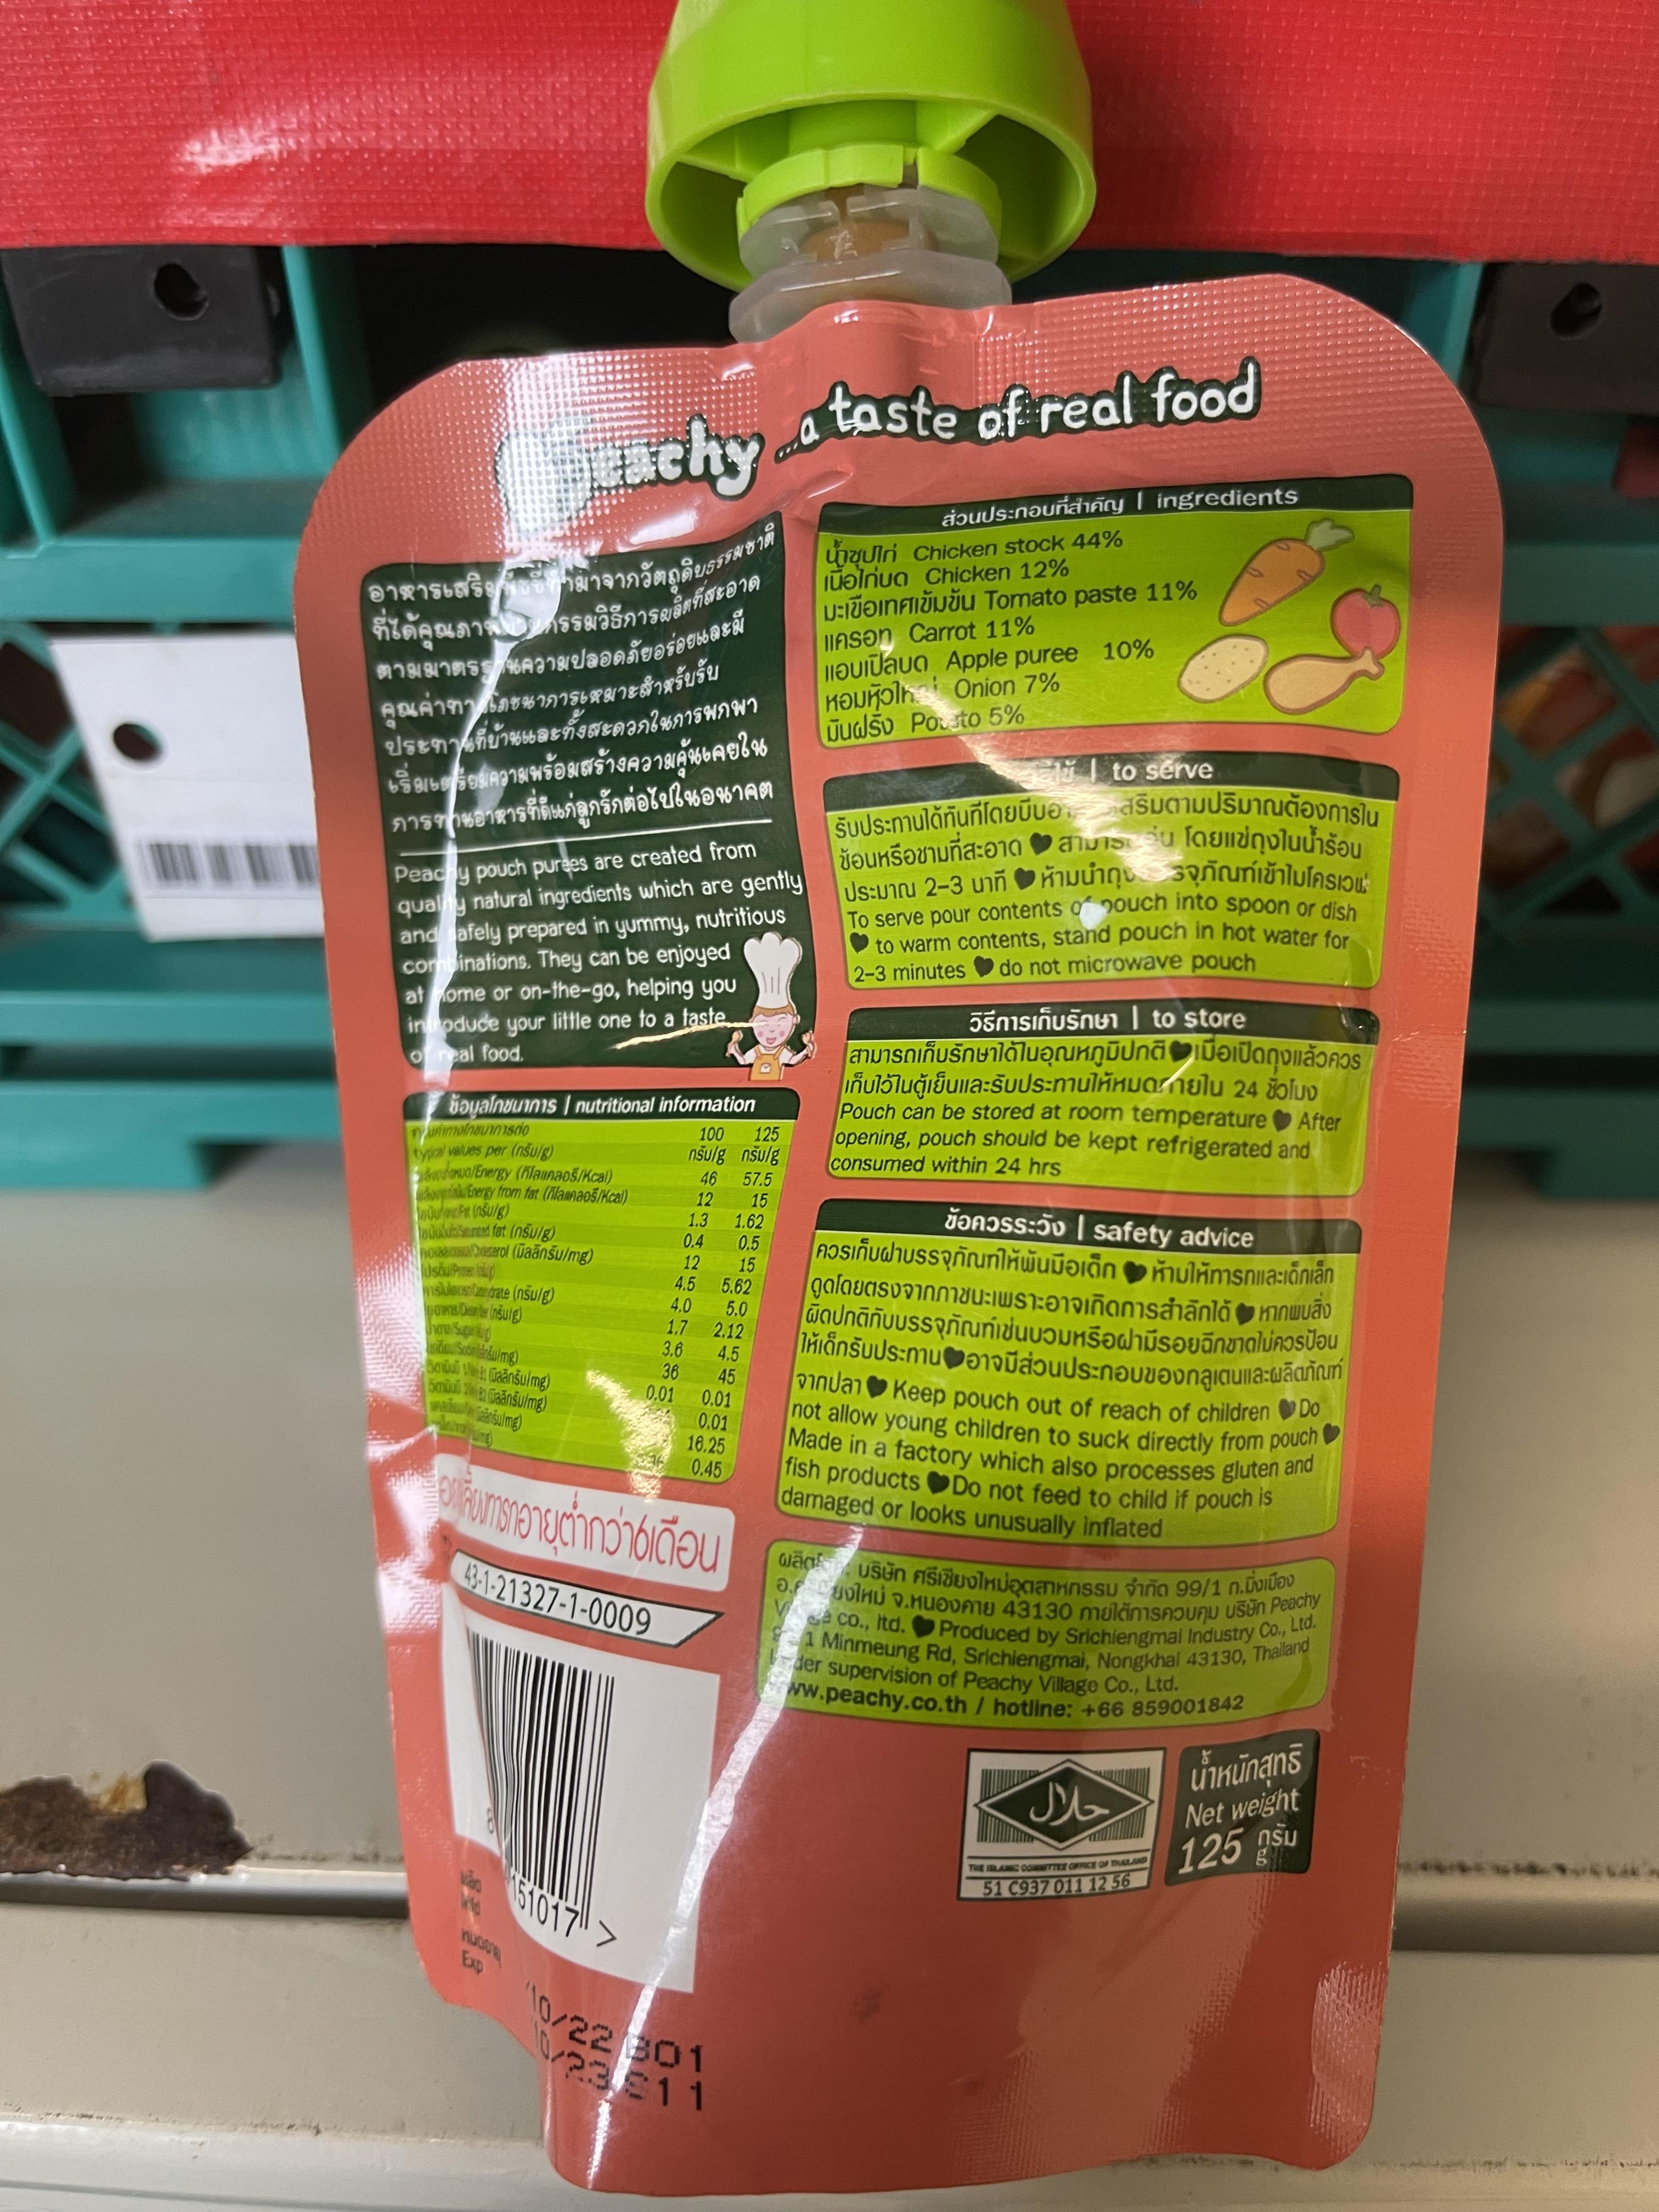object_name: (368, 442, 1347, 1996)
